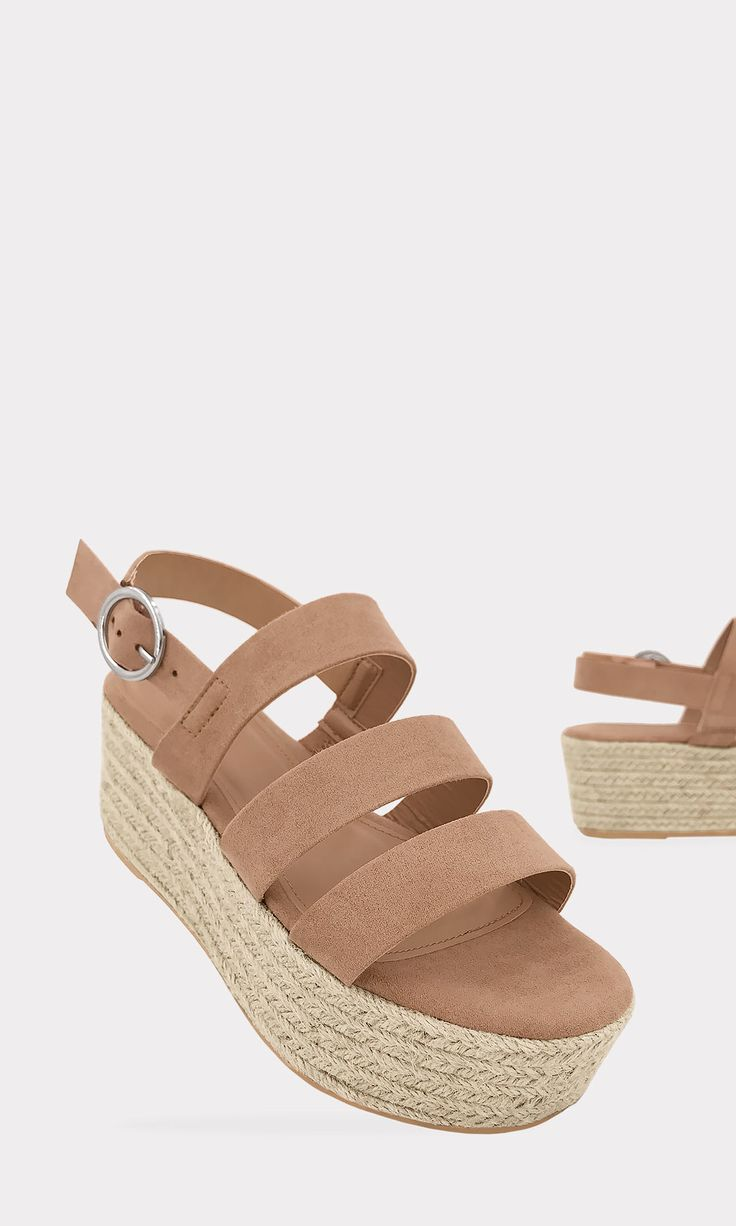gamuza: (68, 531, 736, 1035)
